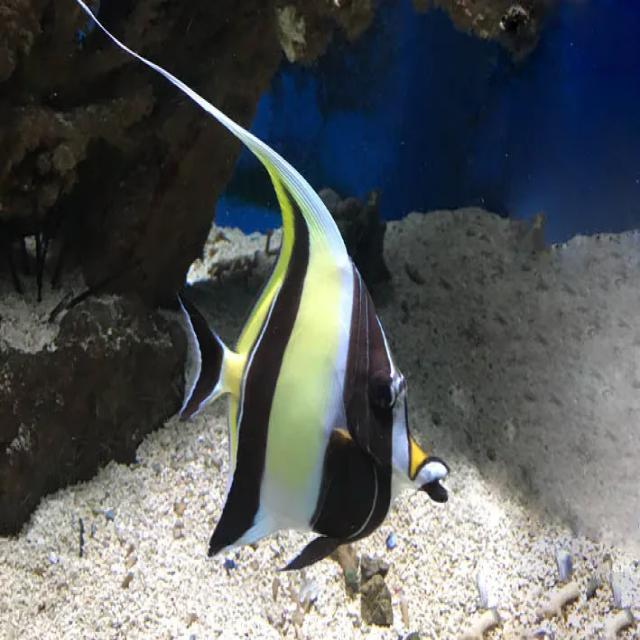MorishIdol: (73, 1, 452, 574)
